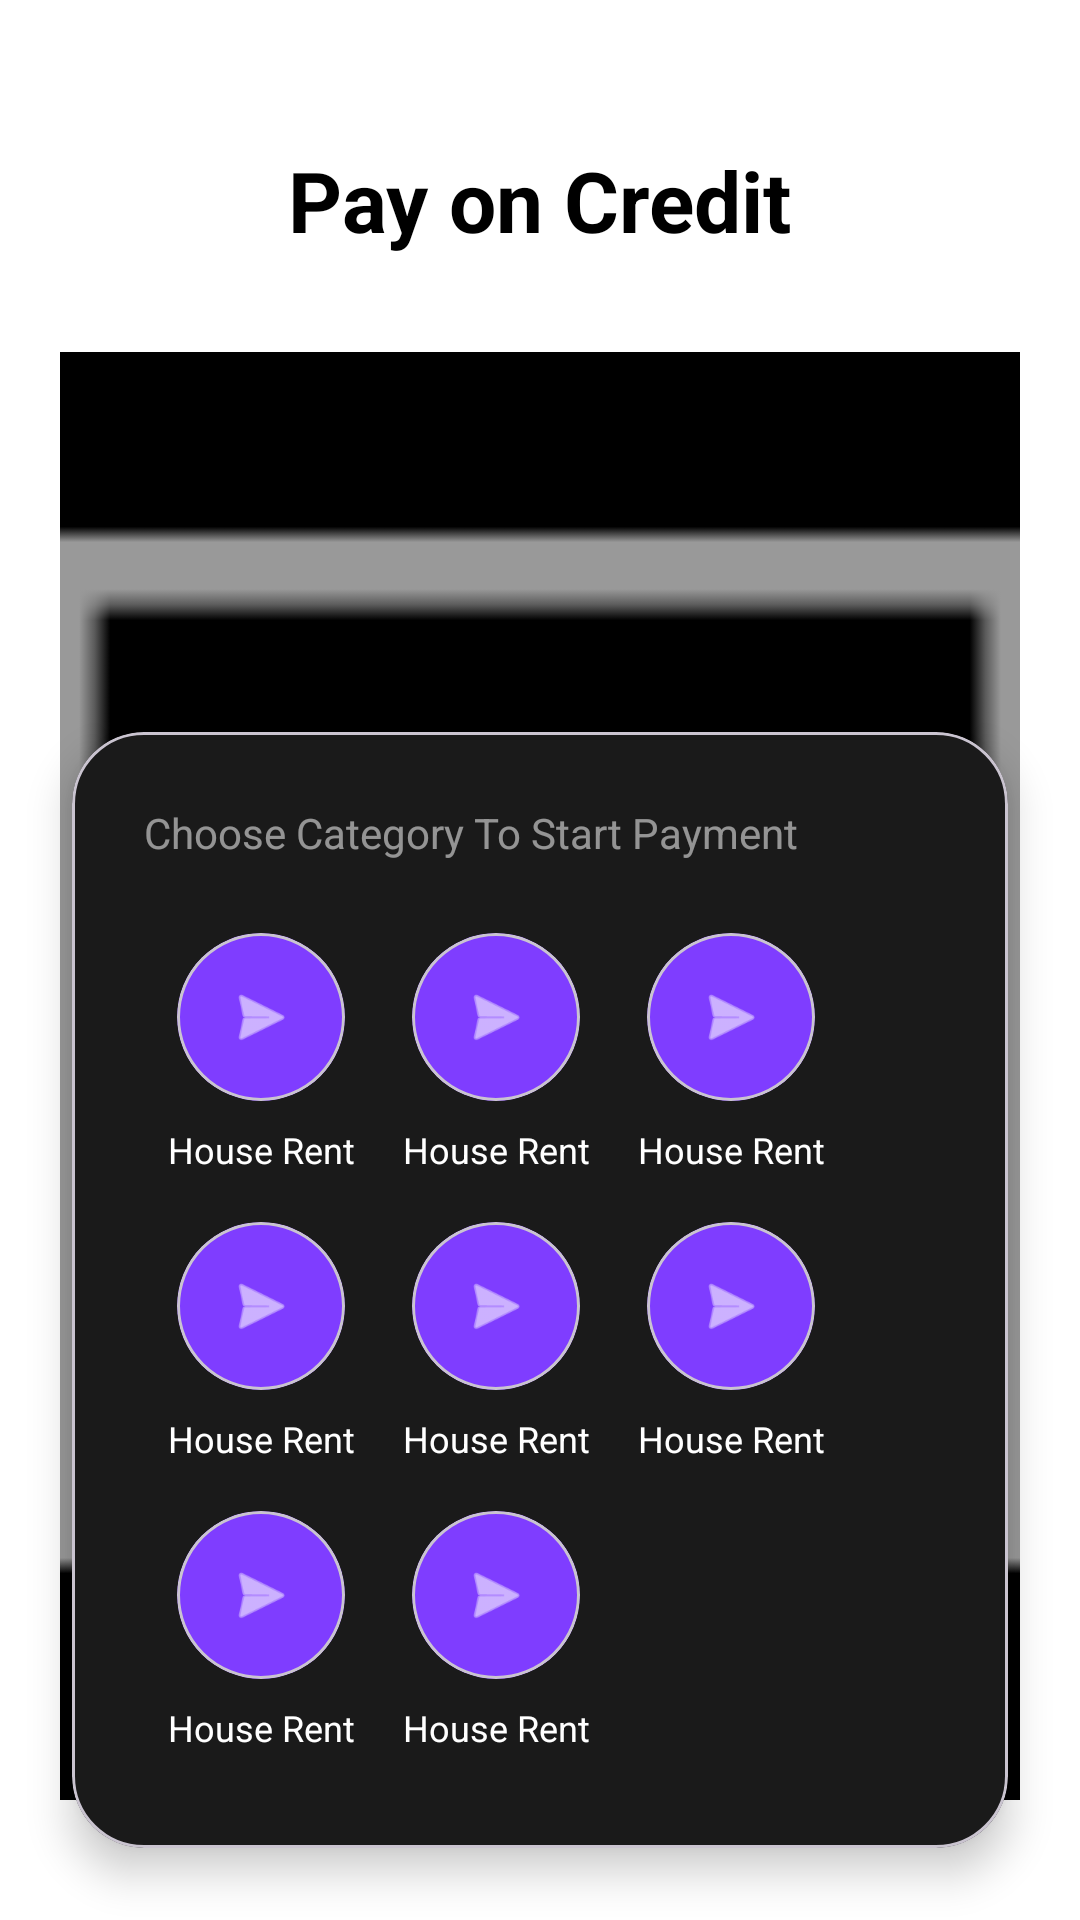

Locate icon controls on the screen. Image size 1080*1920, boxes as BBox(x1, y1, x2, y2).
send: BBox(239, 995, 285, 1040), BBox(474, 995, 520, 1040), BBox(709, 995, 755, 1040), BBox(239, 1284, 285, 1329), BBox(474, 1284, 520, 1329), BBox(709, 1284, 755, 1329), BBox(239, 1573, 285, 1618), BBox(474, 1573, 520, 1618)
